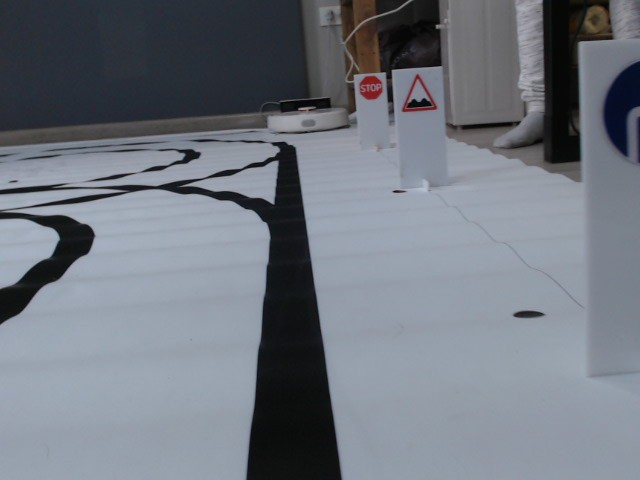Nerov: (400, 72, 437, 112)
